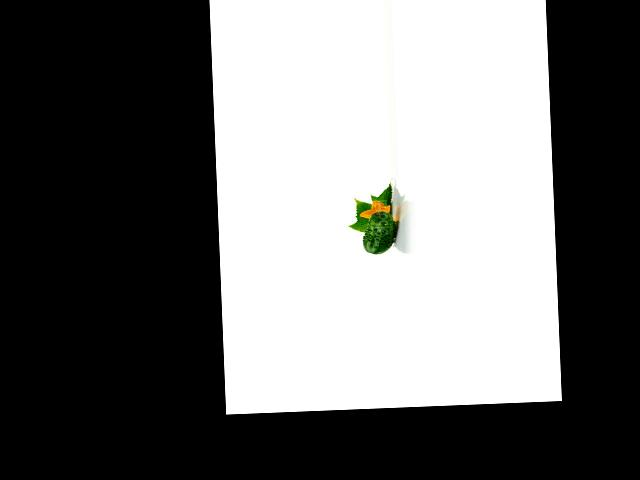cucumber: (362, 212, 397, 255)
